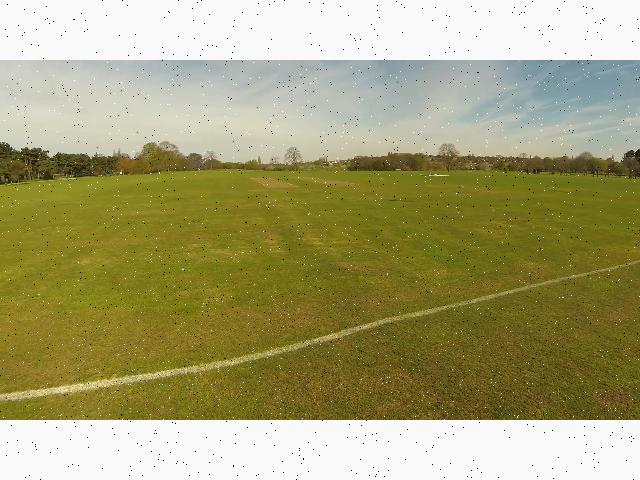Anti-Drone: (416, 170, 450, 180)
